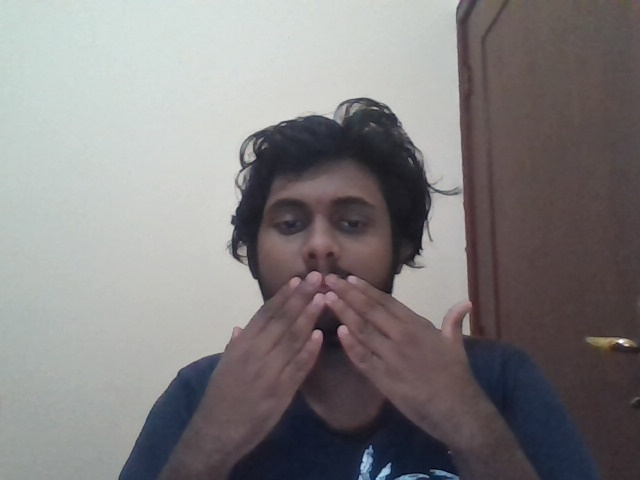thankyou: (222, 271, 474, 423)
